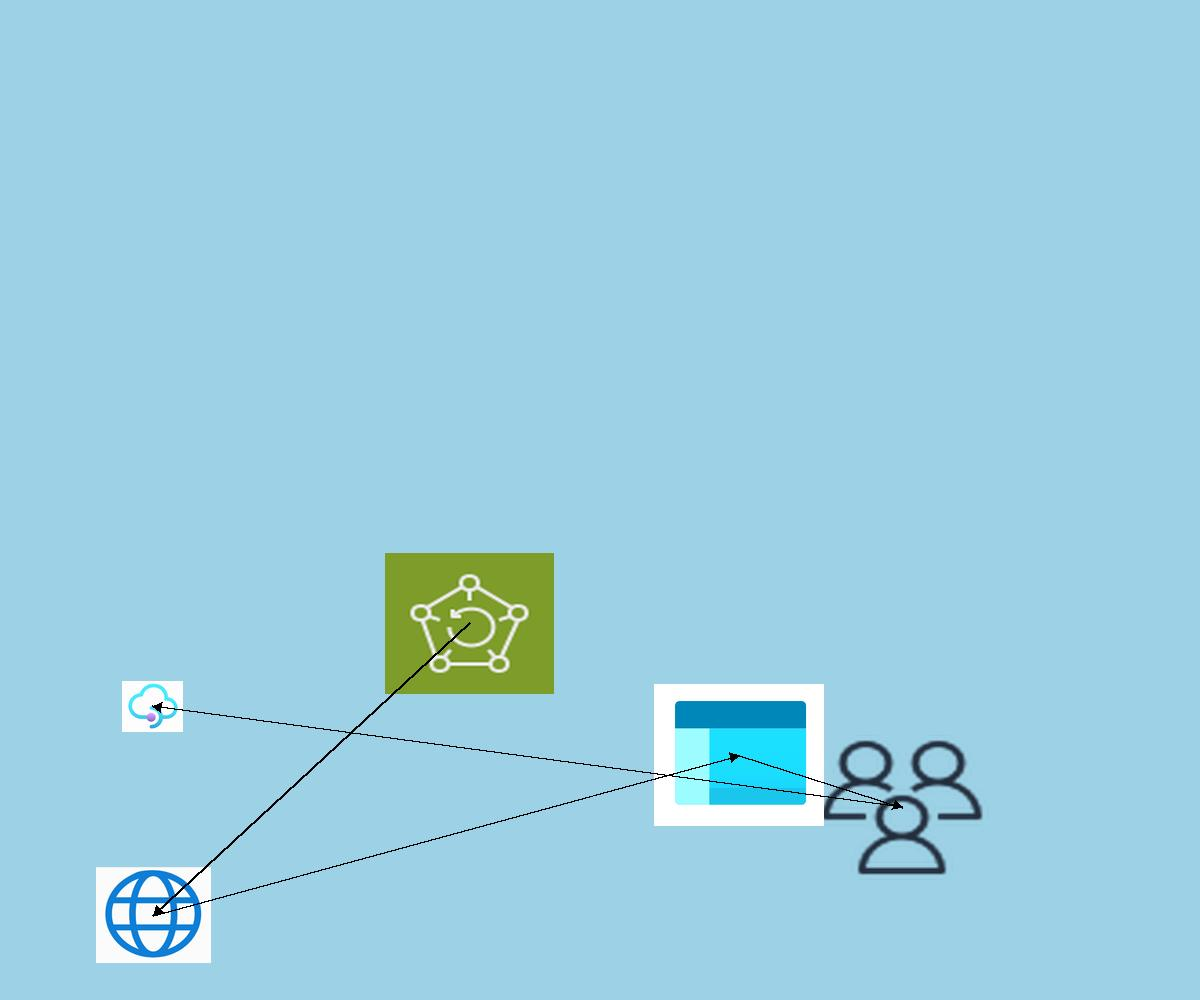AWS-Backup: (385, 553, 554, 694)
AWS-Res_Users: (815, 735, 989, 880)
Azure_api_gateway: (122, 681, 183, 732)
Azure_http: (96, 867, 211, 963)
Azure_management-portal: (654, 684, 824, 826)
